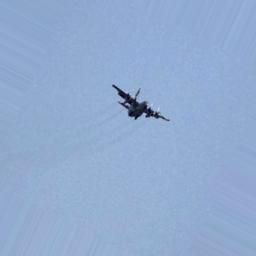Airplane: (112, 83, 171, 124)
